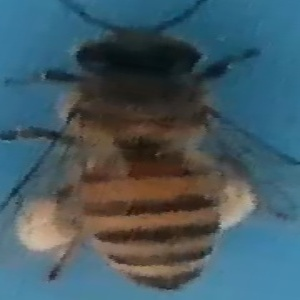bee: (10, 1, 298, 293)
